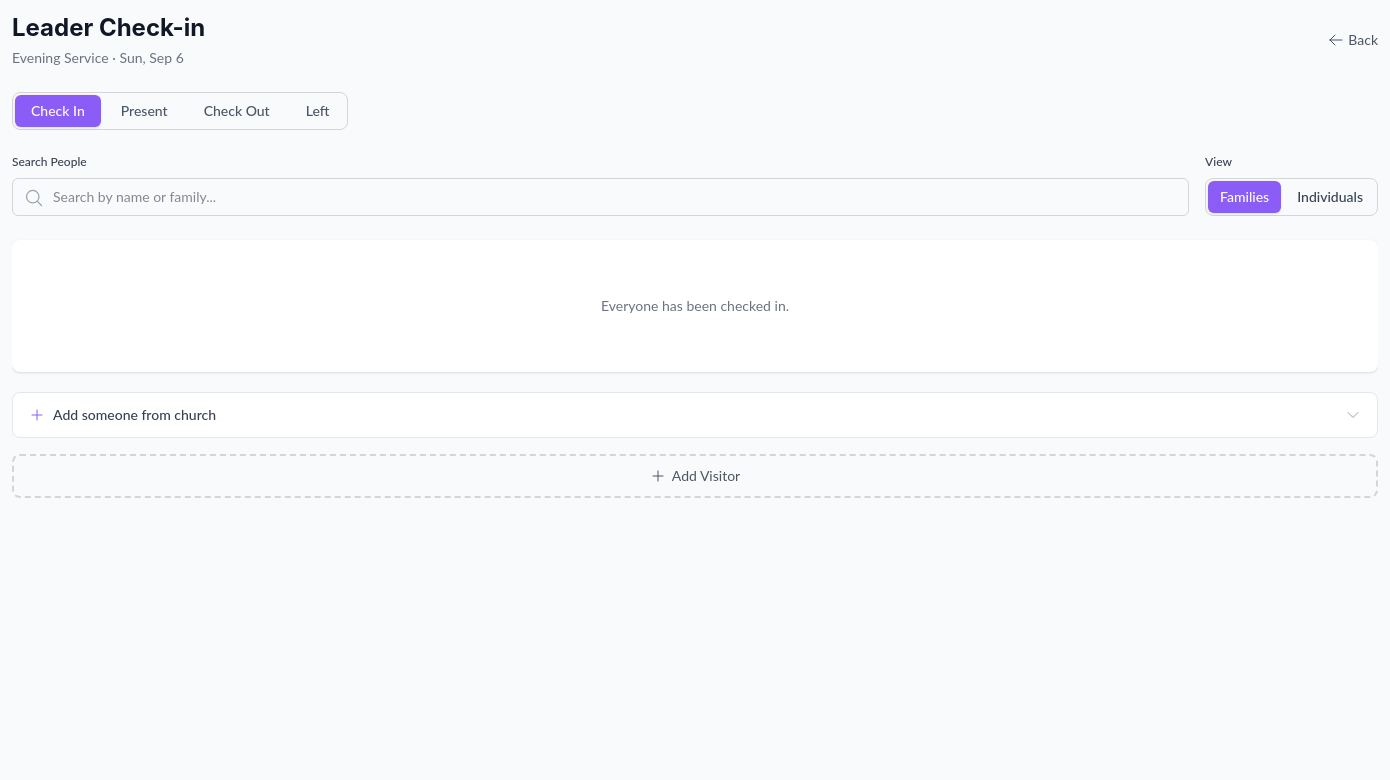
Test case: Leader check-in roster › finds a church person and adds them to this gathering without checking them in
Step 1. Click the button "Add someone from church" → (135, 414), box [13,393,1377,437]
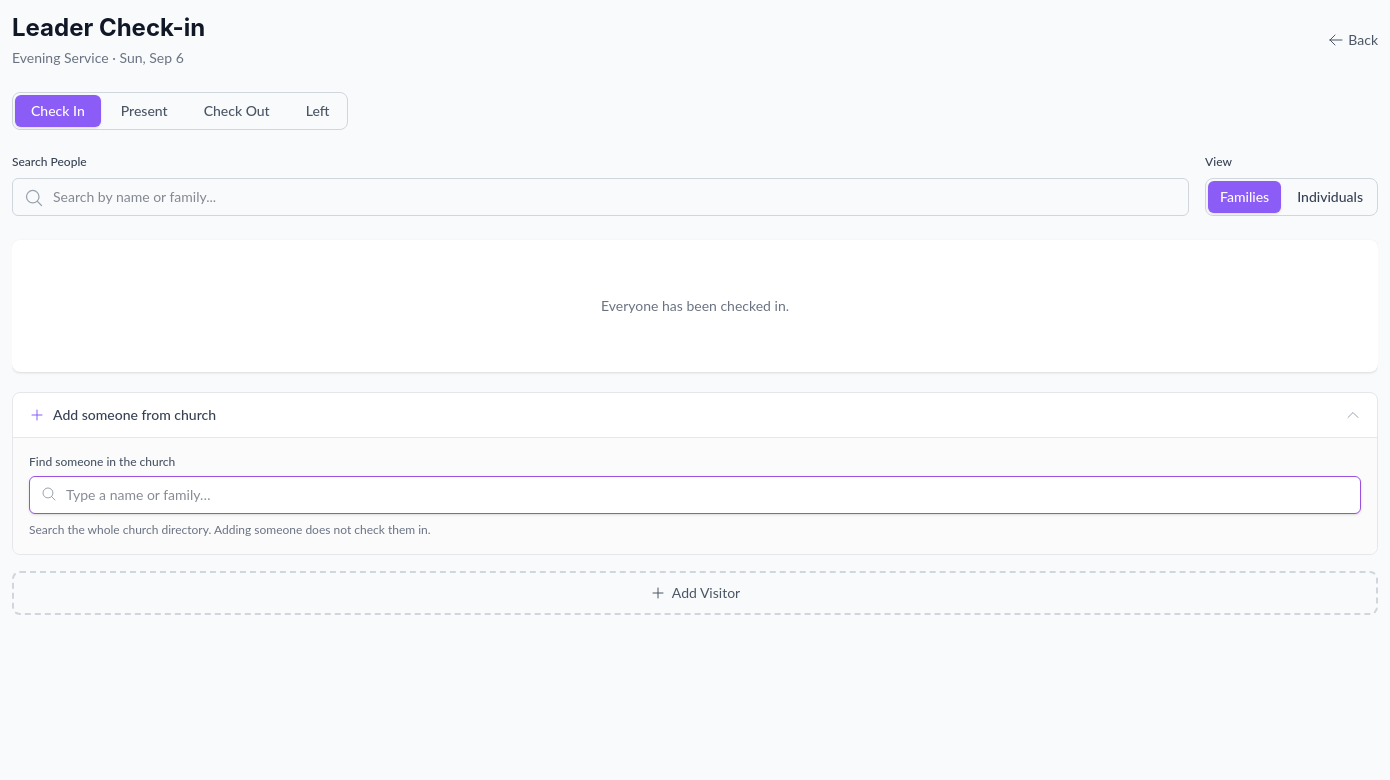
Step 2. Type "Morgan" into the search field labelled "Find someone in the church" → (695, 495), box [29,476,1361,514]
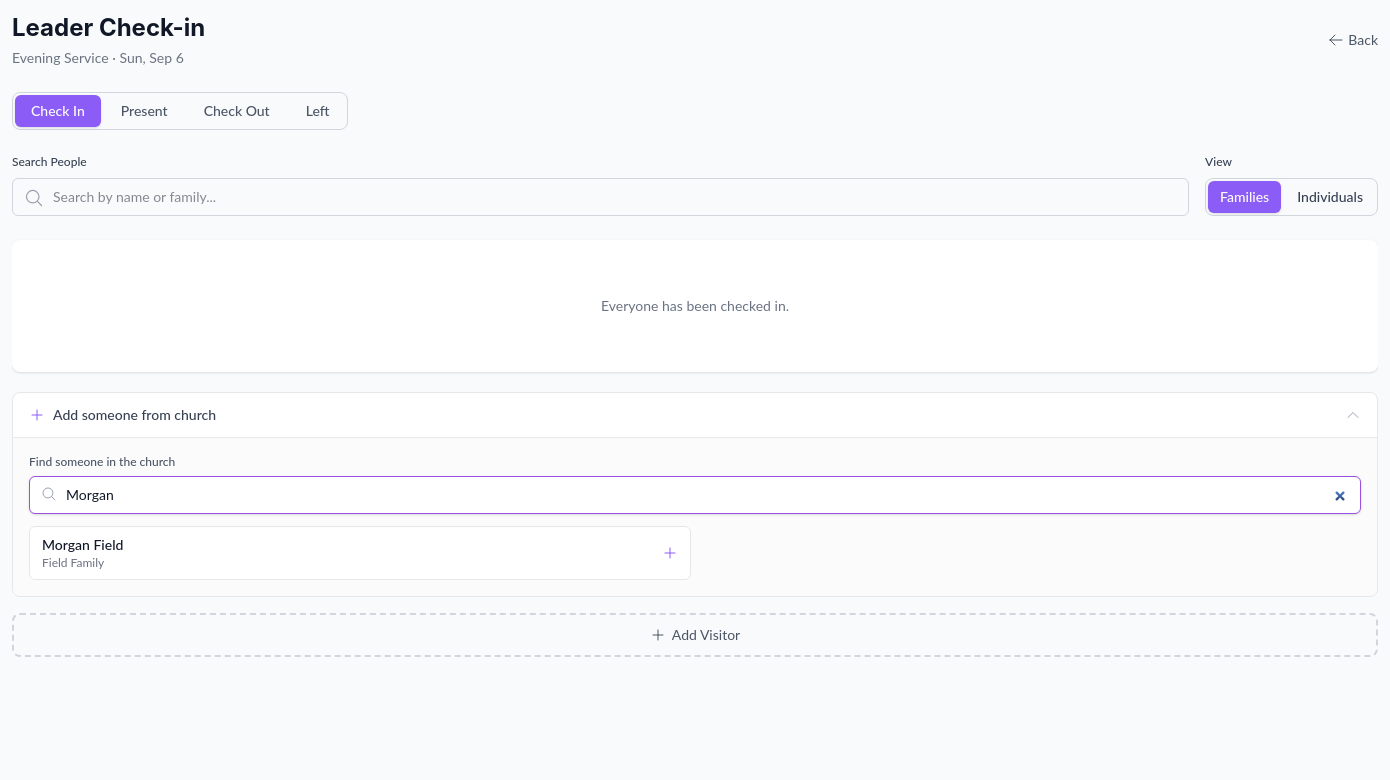
Step 3. Click the button with aria-label "add Morgan Field to evening service" → (83, 544), box [29,526,691,580]
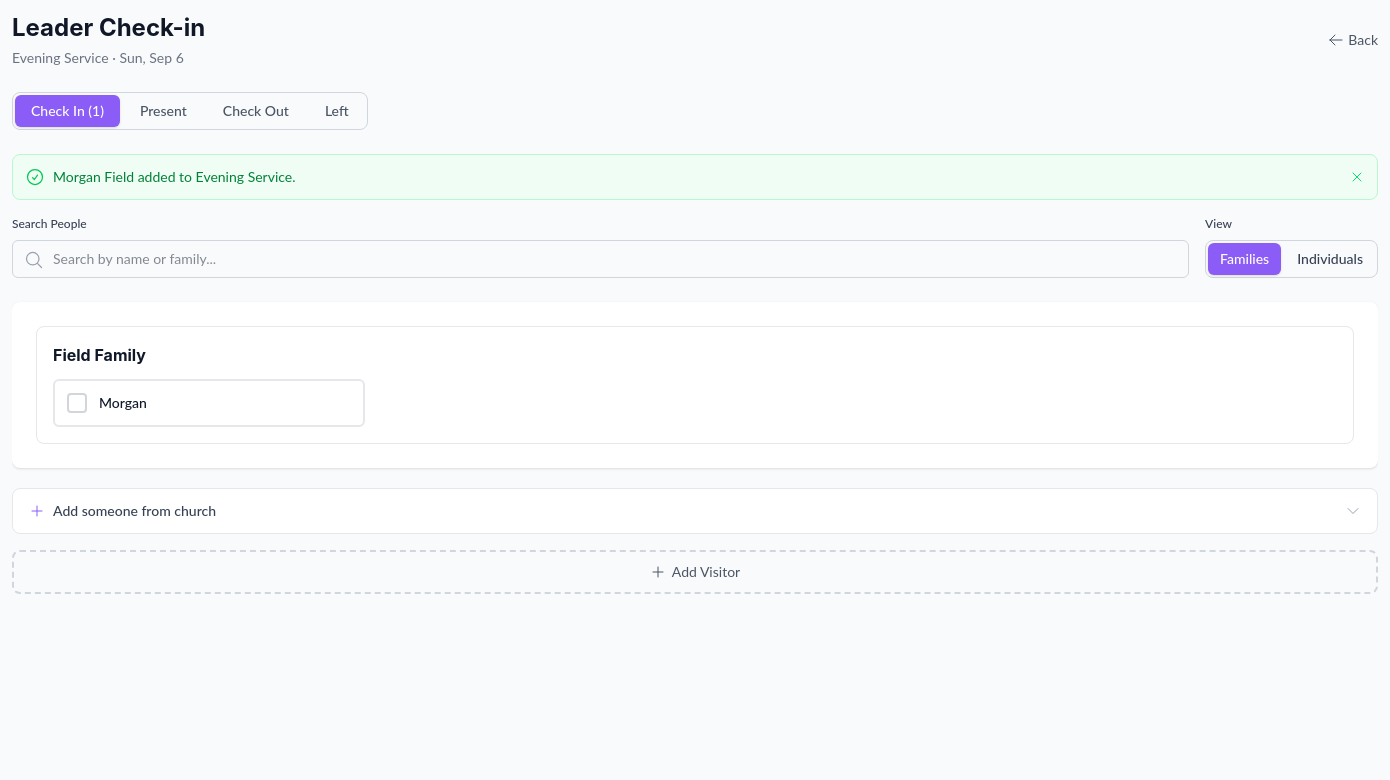
Expected: the checkbox labelled "Morgan" is not checked, [53,379,365,427]
